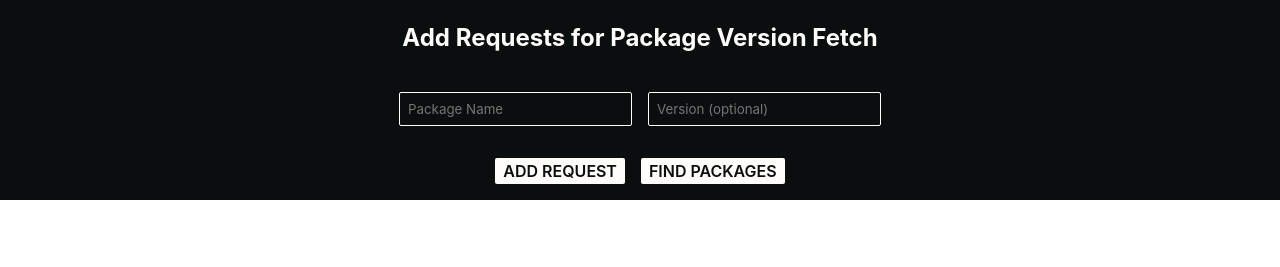
Test: Packages Component › Should handle deleting a request row
This screenshot has width=1280, height=267.
# Add a new request row
Step 1. Click the button "Add Request" → (560, 171), box 495,158 -> 625,184
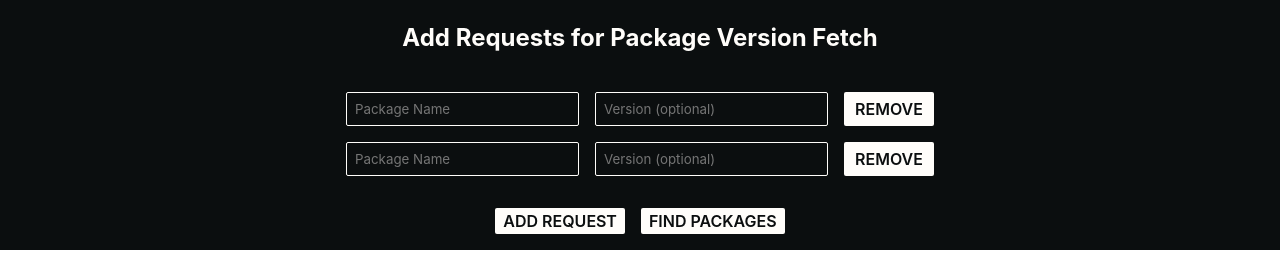
# Delete the second row
Step 2. Click the 2nd button "Remove" → (889, 159), box 844,142 -> 934,176
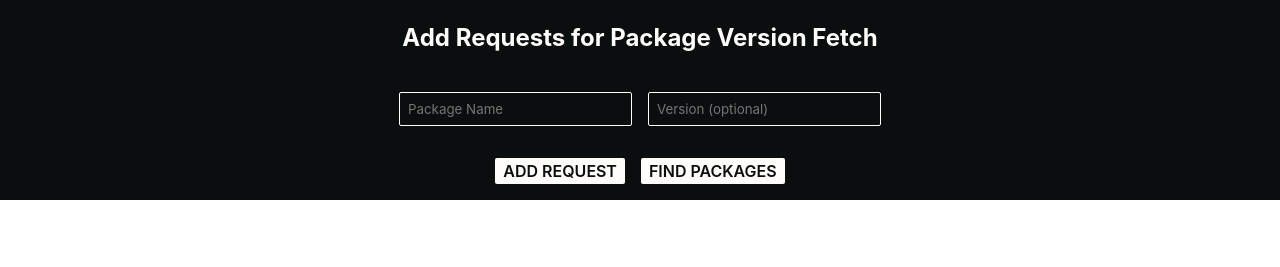
expect the number of fields with placeholder "Package Name" is 1: met, box 399,92 -> 632,126
